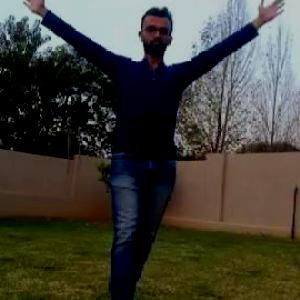takeoff: (45, 0, 266, 299)
